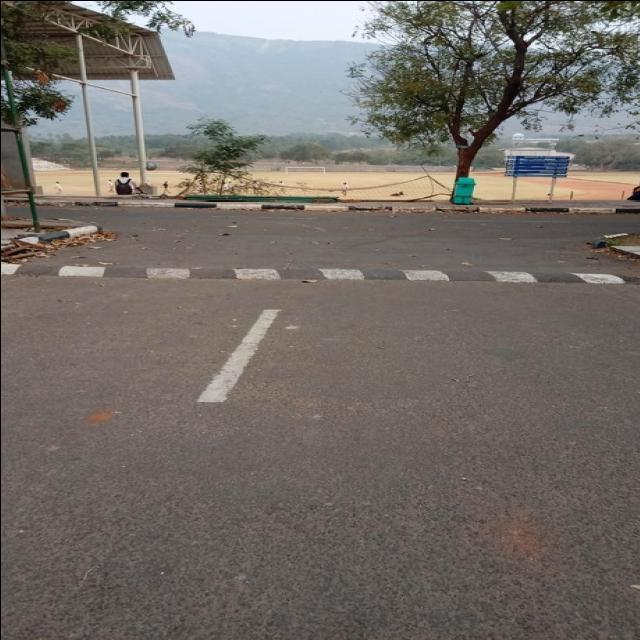Marked Bump: (60, 257, 633, 298)
